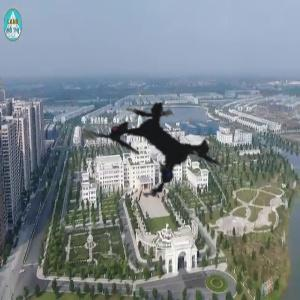drone: (50, 39, 264, 253)
